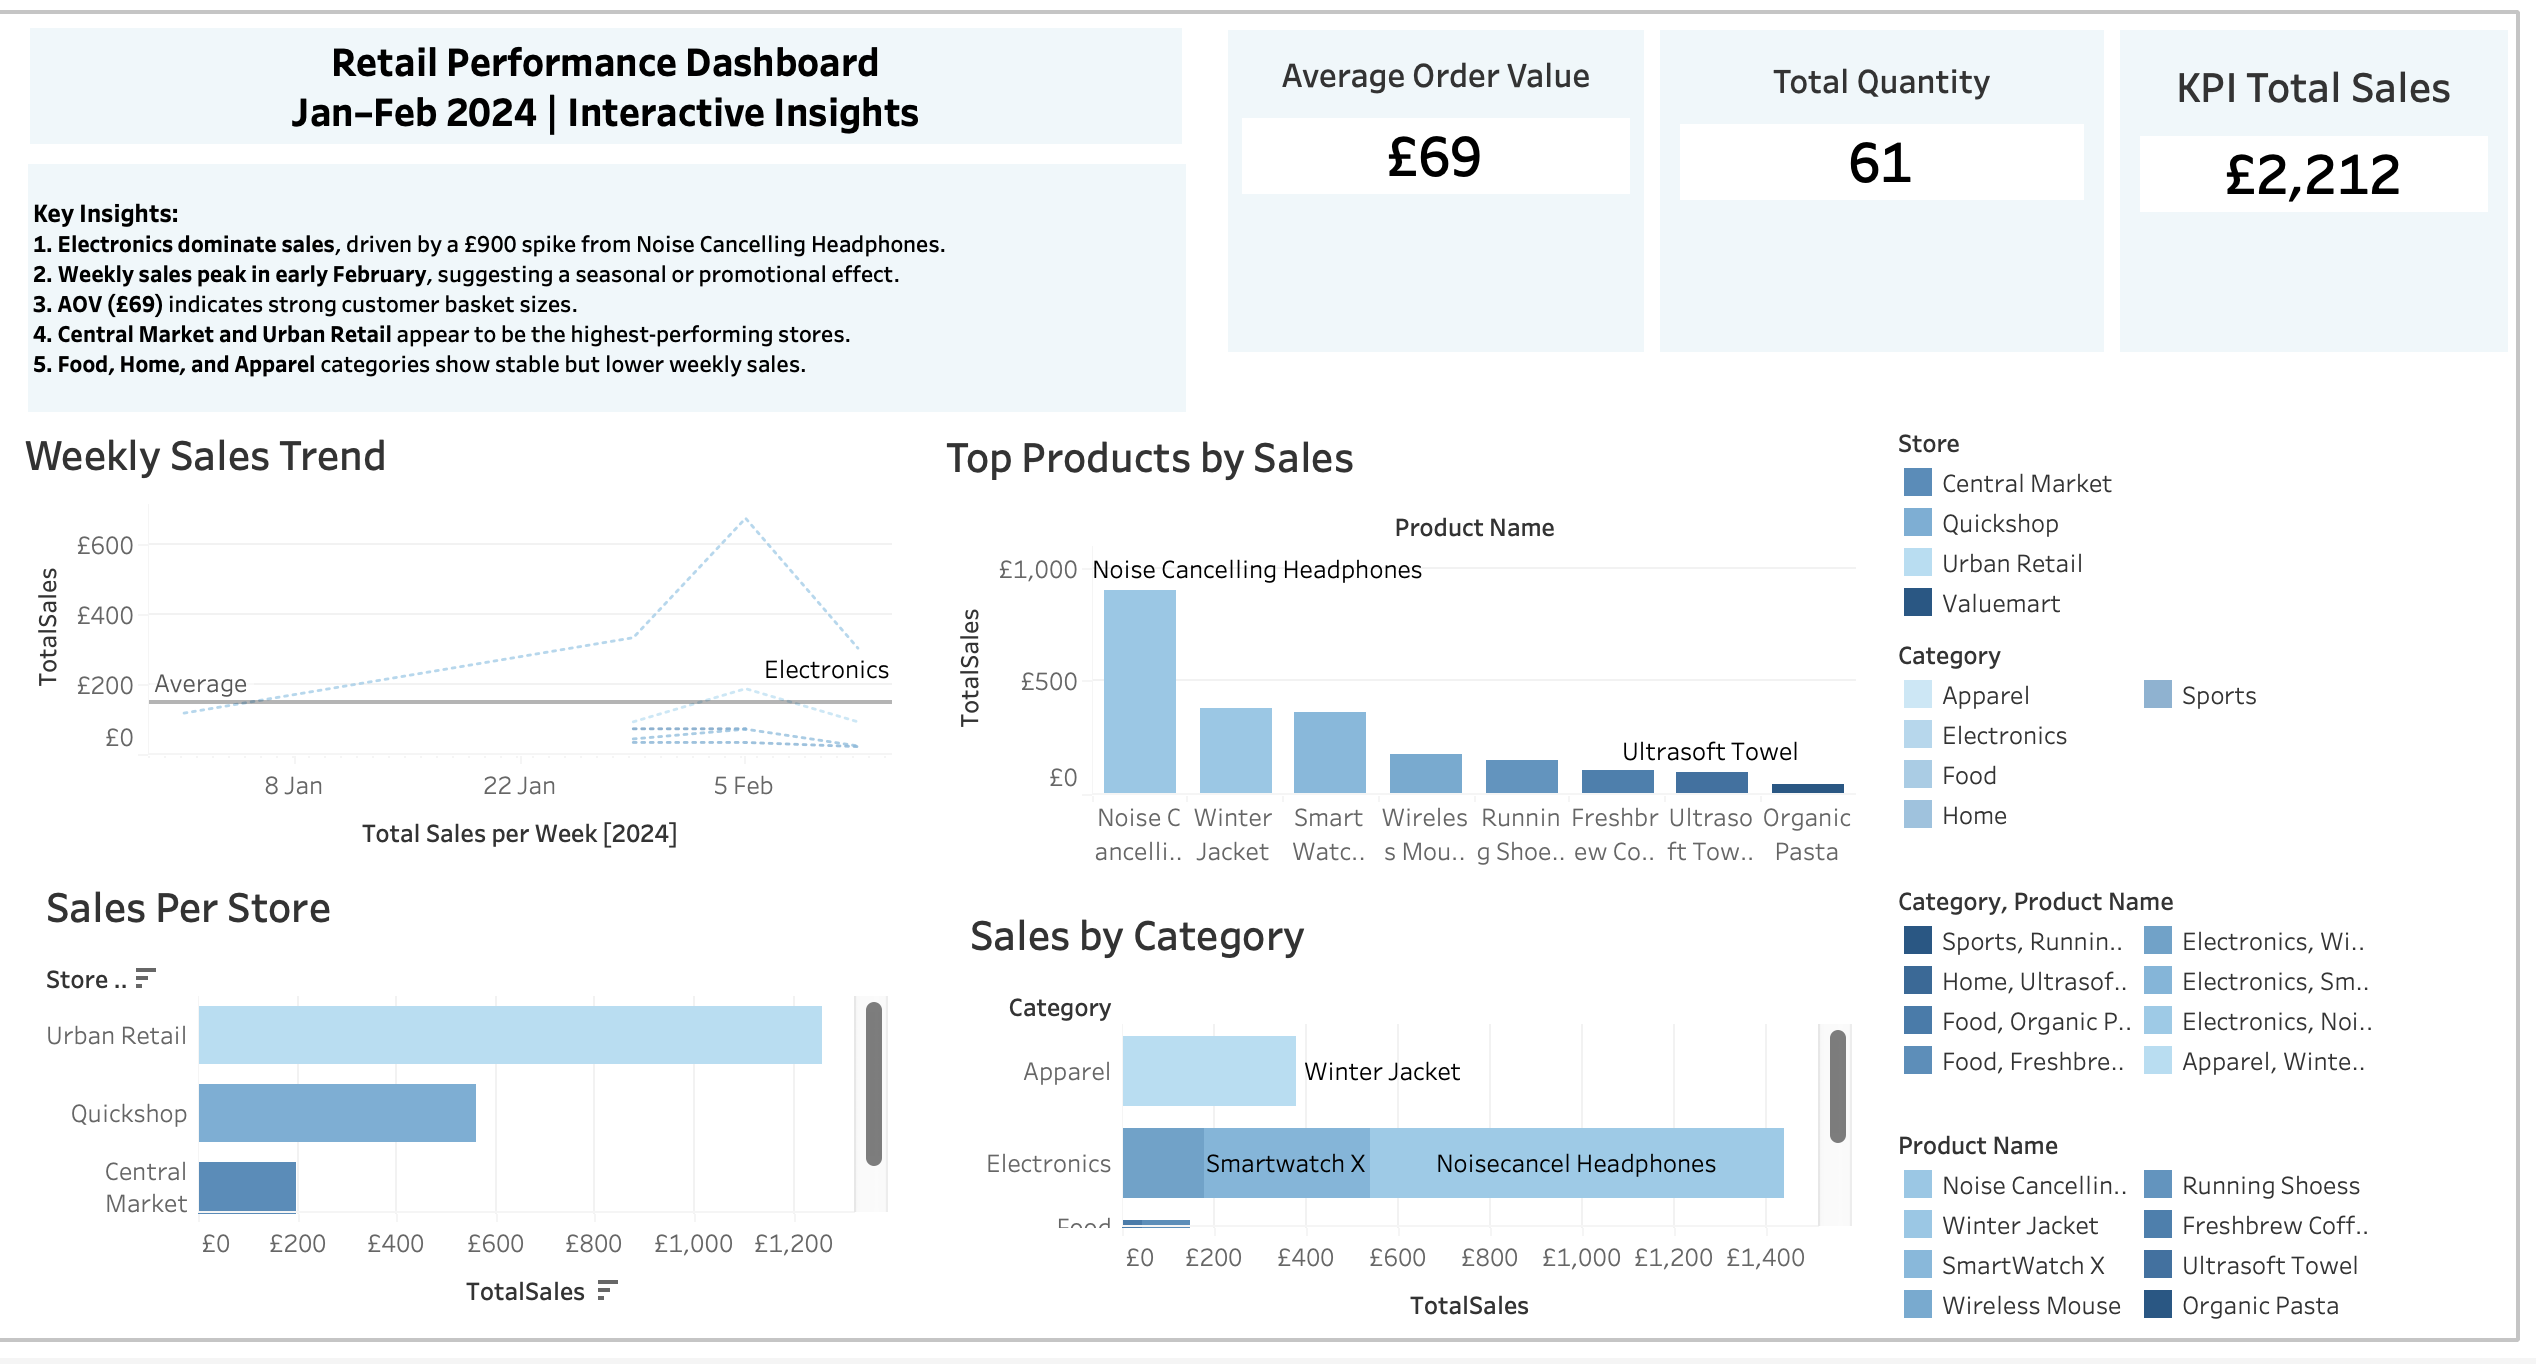

The page's visual inventory and layout, read from the dashboard file:
{"tool":"tableau","page":{"name":"Dashboard 1","canvas":[1000,1000],"units":"permille","ordinal":0},"visuals":[{"type":"blank","box":[652,11.7,40,333.3]},{"type":"blank","box":[6.2,11.8,987.5,976.5]},{"type":"worksheet","title":"Sheet 8","mark":"Automatic","box":[485.5,17.7,168.9,248.5]},{"type":"worksheet","title":"Sheet 9","mark":"Automatic","box":[654.4,17.7,179.8,248.5]},{"type":"worksheet","title":"Sheet 7","mark":"Automatic","box":[834.3,17.7,157.9,248.5]},{"type":"text","box":[20.3,22.1,450.4,85.3]},{"type":"text","box":[19.6,122.1,452.7,182.3]},{"type":"worksheet","title":"Sheet 6","mark":"Line","rows":["Calculation_0268728397373445"],"cols":["Date"],"box":[14.9,308.8,342.5,327.9]},{"type":"worksheet","title":"Sheet 11","mark":"Automatic","rows":["Calculation_0268728397373445"],"cols":["ProductName"],"box":[375.3,310.3,358.9,333.8]},{"type":"worksheet","title":"Sheet 13","mark":"Automatic","rows":["StoreName"],"cols":["Calculation_0268728397373445"],"box":[23.5,641.2,332.3,332.4]},{"type":"worksheet","title":"Sheet 12","mark":"Automatic","rows":["Category"],"cols":["Calculation_0268728397373445"],"box":[384.7,661.8,347.9,322.1]}]}

Visuals, with their boxes on the dashboard's canvas, which has no fixed pixel size, in thousandths of its width and height (x1, y1, x2, y2). These are canvas units, not pixel positions in the 2536x1364 screenshot, which may show the page scaled, cropped or inside an application window:
blank: left=652, top=12, right=692, bottom=345
blank: left=6, top=12, right=994, bottom=988
"Sheet 8" worksheet: left=486, top=18, right=654, bottom=266
"Sheet 9" worksheet: left=654, top=18, right=834, bottom=266
"Sheet 7" worksheet: left=834, top=18, right=992, bottom=266
text: left=20, top=22, right=471, bottom=107
text: left=20, top=122, right=472, bottom=304
"Sheet 6" worksheet (Line marks): left=15, top=309, right=357, bottom=637
"Sheet 11" worksheet: left=375, top=310, right=734, bottom=644
"Sheet 13" worksheet: left=24, top=641, right=356, bottom=974
"Sheet 12" worksheet: left=385, top=662, right=733, bottom=984
